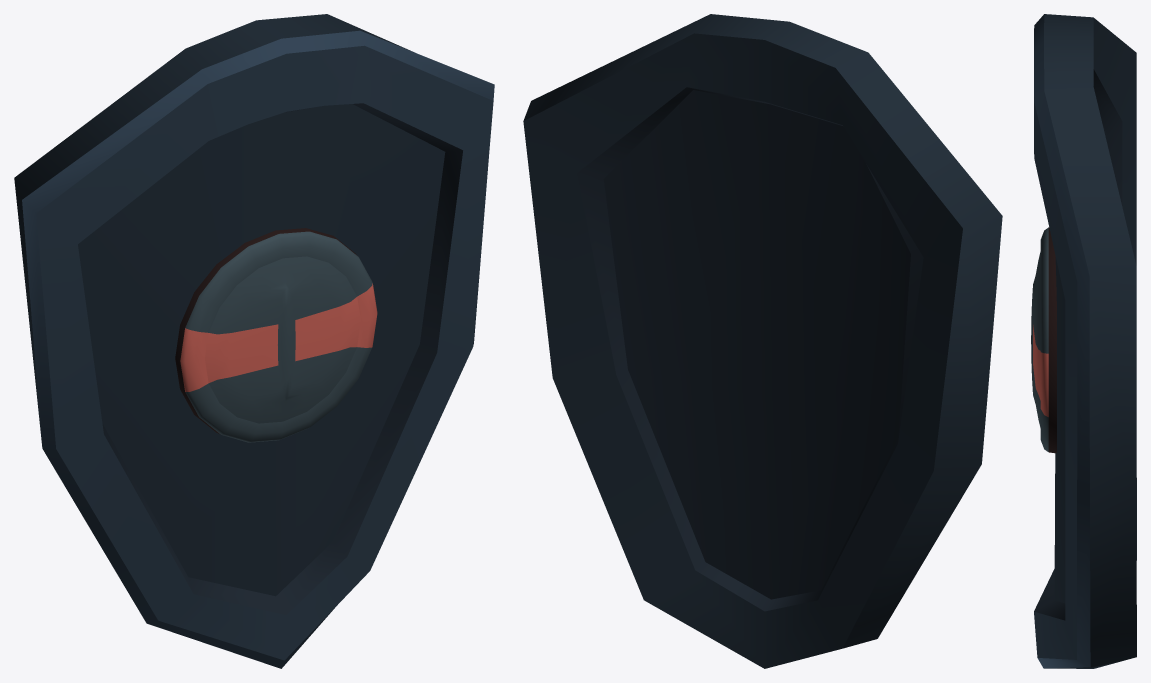
Rendered from wpms cap5b.fbx.
3 views of the same model, side by side, from view 1: azimuth 30°, elevation 25°; view 2: azimuth 150°, elevation 25°; view 3: azimuth 270°, elevation 25° (orthographic).
Parts seen in each view (by area): view 1: wpms_cap5b; view 2: wpms_cap5b; view 3: wpms_cap5b.
Part boxes in pixels (x1,y1,x2,y2): wpms_cap5b: (14,14,494,668); wpms_cap5b: (523,14,1002,668); wpms_cap5b: (1031,14,1136,668).
Size of the model in its own units: 88.9 by 113 by 17.3.
1 material, 1 textured.
